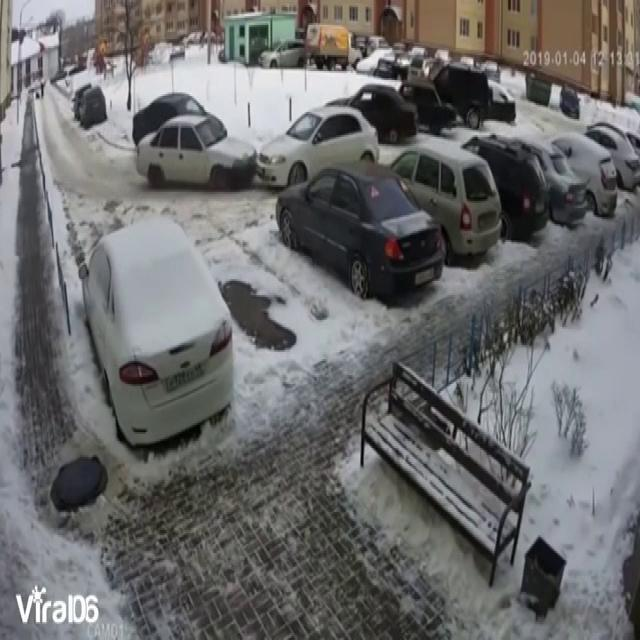moderate: (132, 94, 384, 204)
